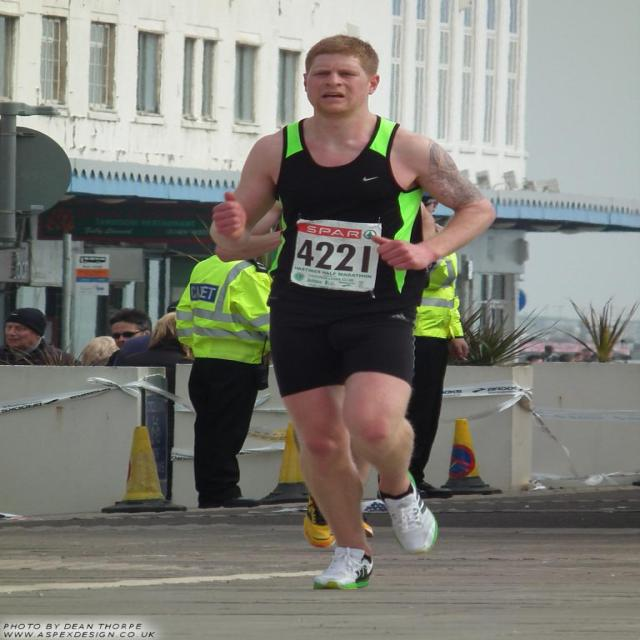Bib: (294, 239, 376, 279)
